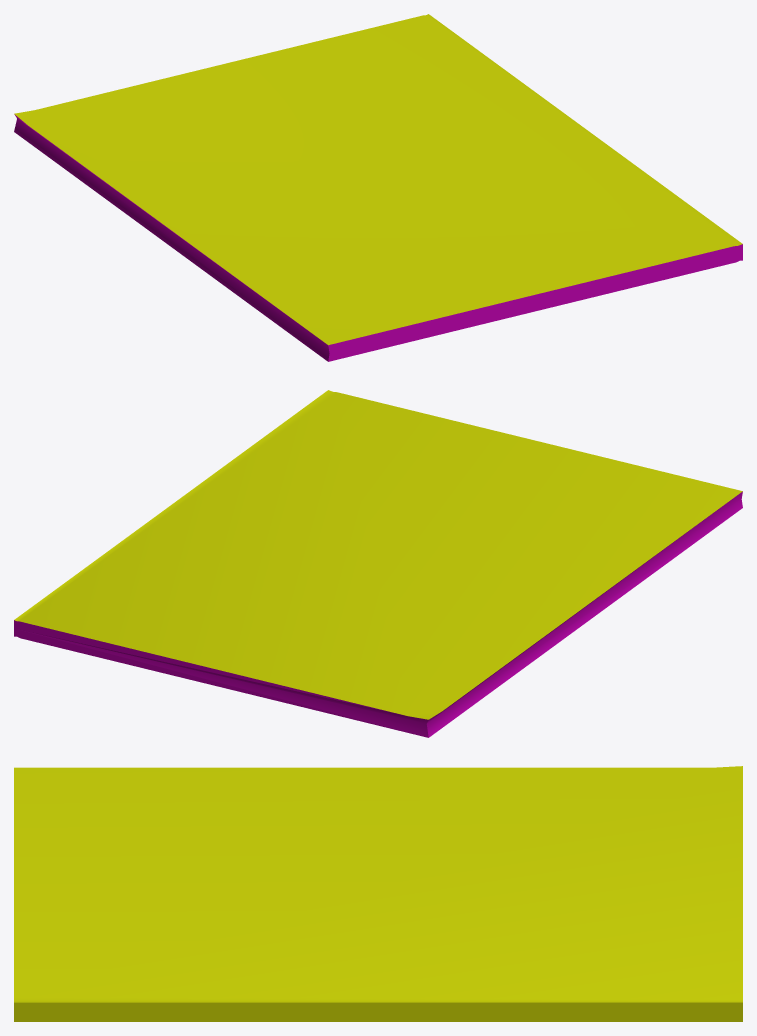
File: Journal.FBX
3 renders of one model, top to bottom at view 1: azimuth 30°, elevation 25°; view 2: azimuth 150°, elevation 25°; view 3: azimuth 270°, elevation 25°, orthographic. The views are drawn at different scales.
Parts seen in each view (by area): view 1: journal; view 2: journal; view 3: journal.
Boxes of the visible parts, bbox=[...] form: journal: bbox=[14, 14, 742, 361]; journal: bbox=[14, 390, 742, 737]; journal: bbox=[14, 766, 742, 1021].
Bounding box in the file's own units: 8.19 × 0.3429 × 10.75.
